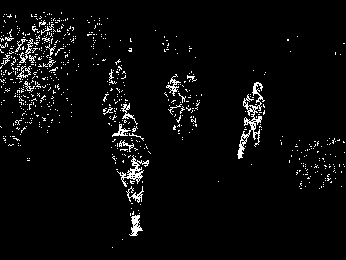person: (105, 112, 150, 239), (240, 81, 268, 164), (105, 54, 134, 115), (163, 73, 189, 136), (188, 69, 206, 141)
